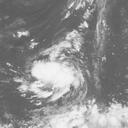cyclone: (30, 60, 86, 102)
